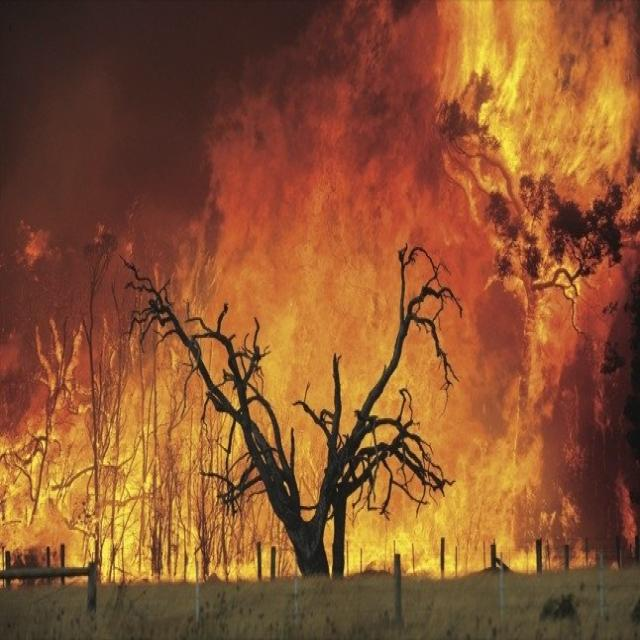Fire: (29, 26, 626, 538)
